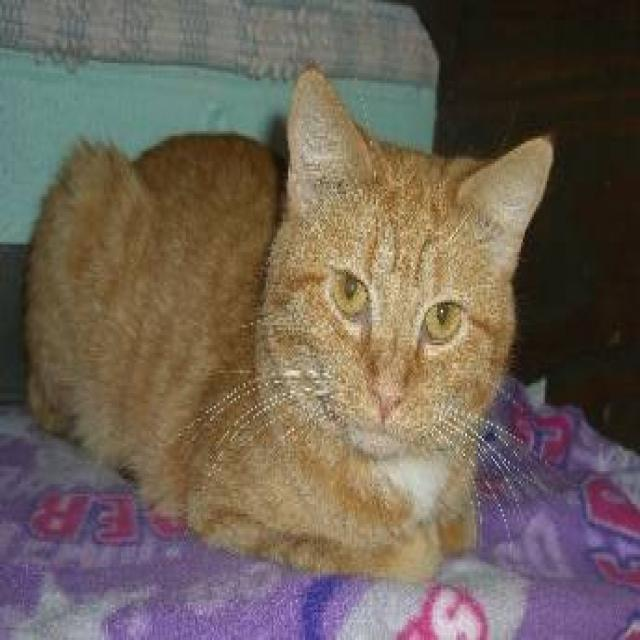cat: (21, 58, 570, 582)
